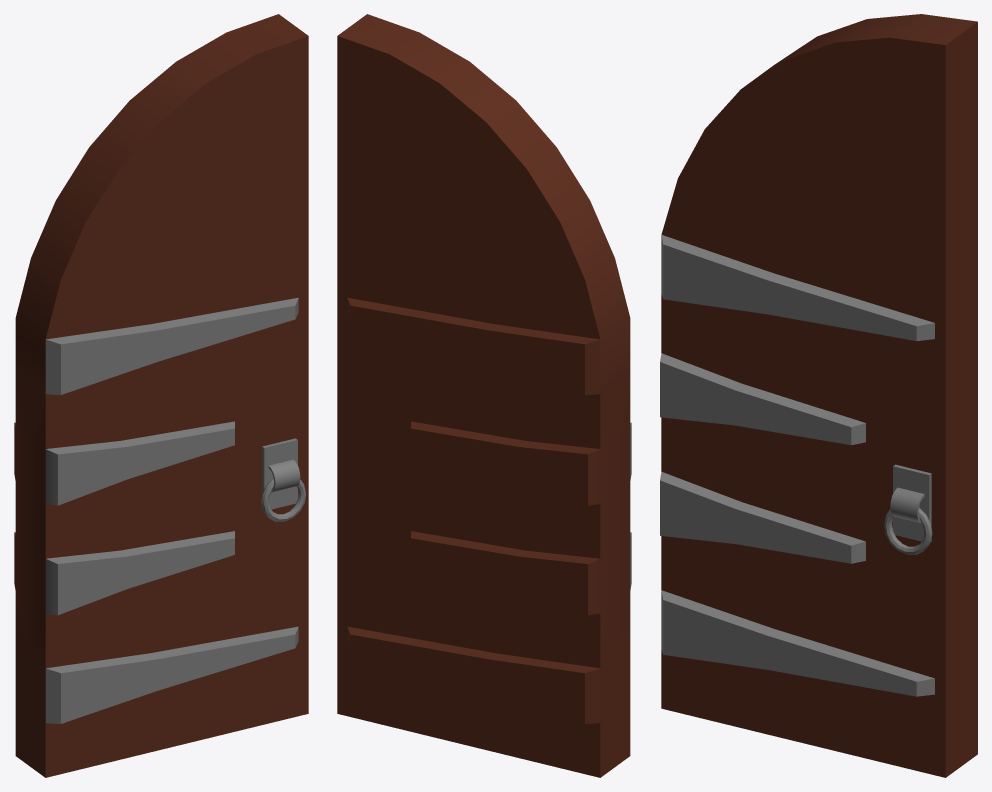
Rendered from dvereKeKonci-RIGHT.fbx.
3 views of the same model, side by side, from view 1: azimuth 30°, elevation 25°; view 2: azimuth 150°, elevation 25°; view 3: azimuth 330°, elevation 25° (orthographic). The views are drawn at different scales.
Visible parts, largest first — view 1: Dveře.001; view 2: Dveře.001; view 3: Dveře.001.
Boxes of the visible parts, x1,y1,x2,y2 form: Dveře.001: (14, 14, 308, 777); Dveře.001: (337, 14, 631, 777); Dveře.001: (660, 14, 977, 777).
Size of the model in its own units: 290 by 714 by 87.39.
